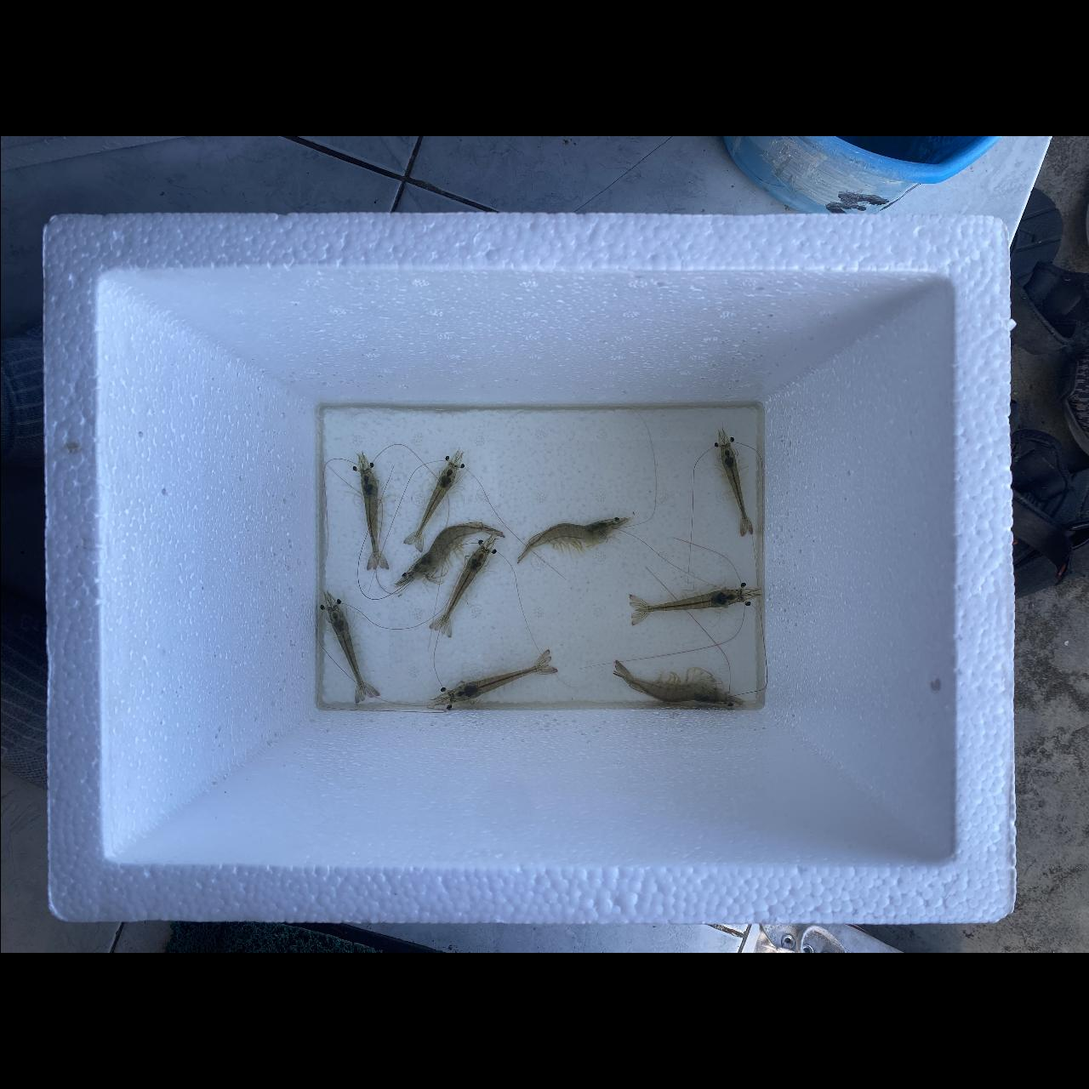side_shrimp: (407, 523, 500, 579), (614, 664, 727, 703), (518, 521, 612, 558)
top_shrimp: (440, 548, 487, 631), (449, 665, 548, 702), (329, 607, 366, 698), (414, 463, 456, 543), (635, 590, 740, 613), (720, 446, 747, 530), (361, 470, 378, 566)
